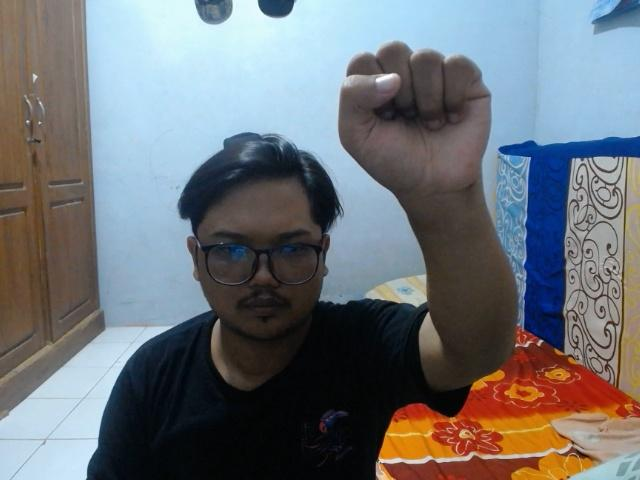Grab: (330, 36, 502, 196)
